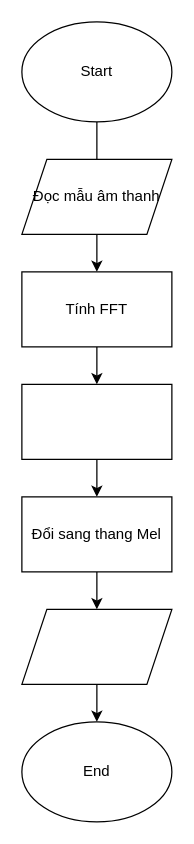
Image size: 194x844. Some labels were removed from this diagram. Here are the shapes that lost their labels. From the top down, the centre of each, then its label:
At (x=96, y=421): "Tính STFT".
At (x=96, y=646): "Vẽ Mel Spectrogram".
